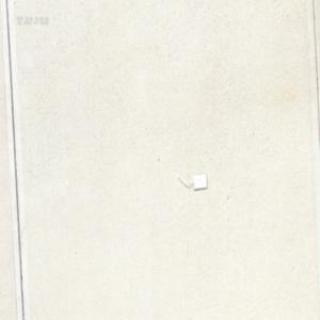LuggageTagtrack_idkeyframe: (176, 172, 206, 189)
